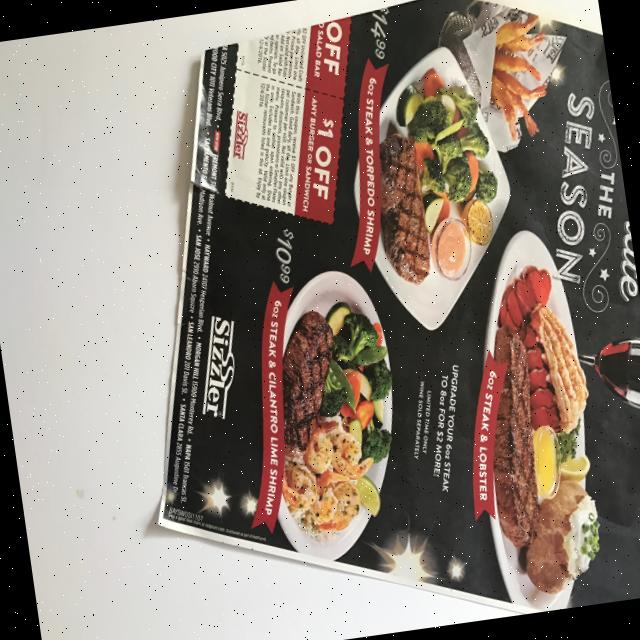paper: (85, 0, 640, 640)
